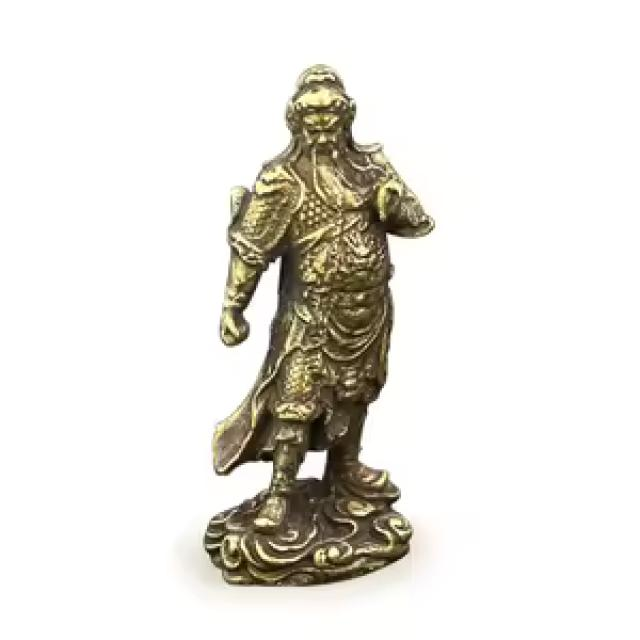Guan Yu: (211, 43, 412, 510)
